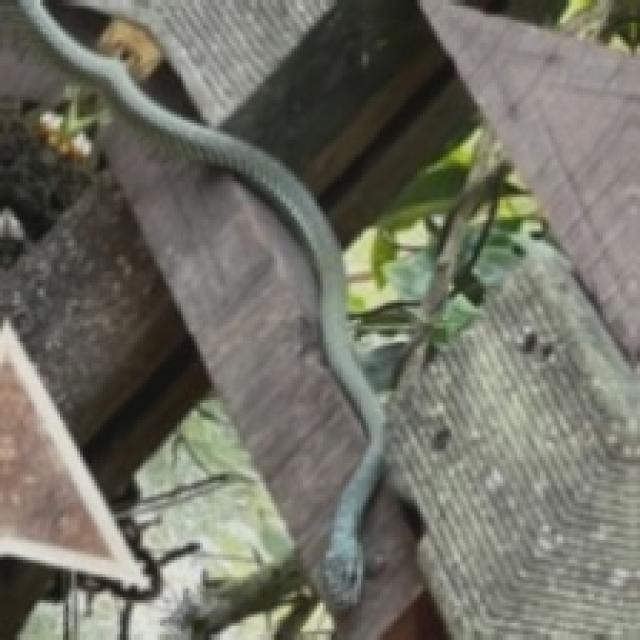paradise tree snake: (17, 0, 383, 606)
